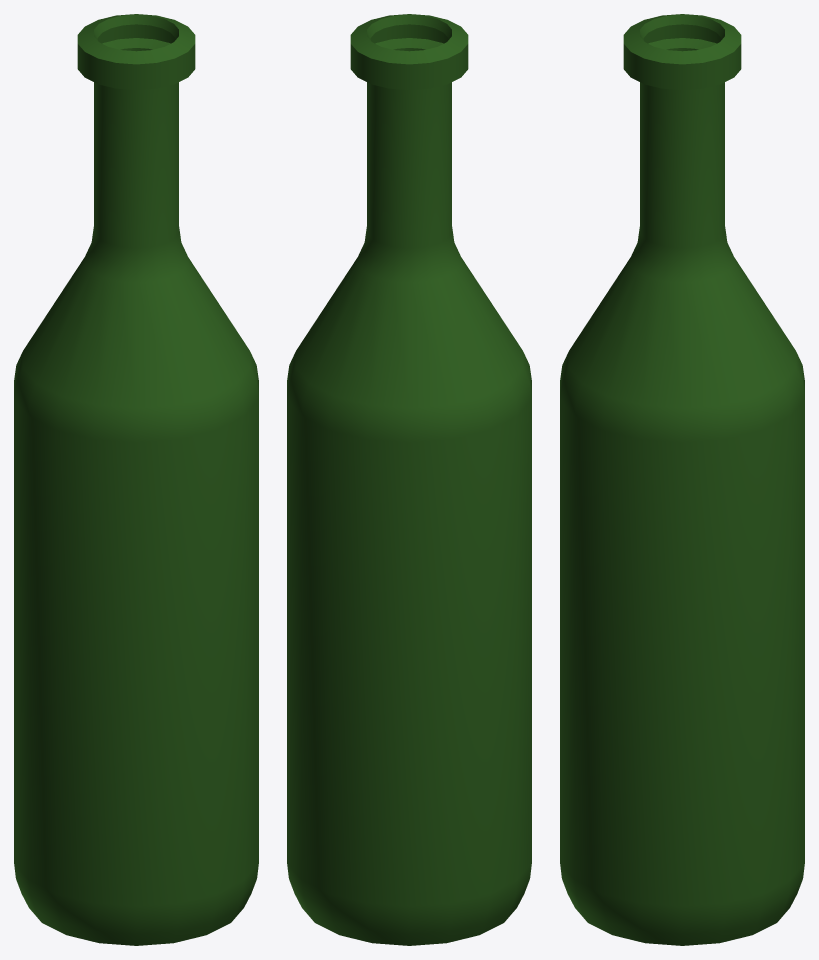
Rendered from bottlewhole.fbx.
3 views of the same model, side by side, from view 1: azimuth 30°, elevation 25°; view 2: azimuth 150°, elevation 25°; view 3: azimuth 270°, elevation 25° (orthographic).
Parts seen in each view (by area): view 1: Cylinder001; view 2: Cylinder001; view 3: Cylinder001.
Part boxes in pixels (x1,y1,x2,y2): Cylinder001: [14, 14, 258, 945]; Cylinder001: [287, 14, 531, 945]; Cylinder001: [560, 14, 804, 945].
Size of the model in its own units: 19.87 by 76.42 by 19.57.
